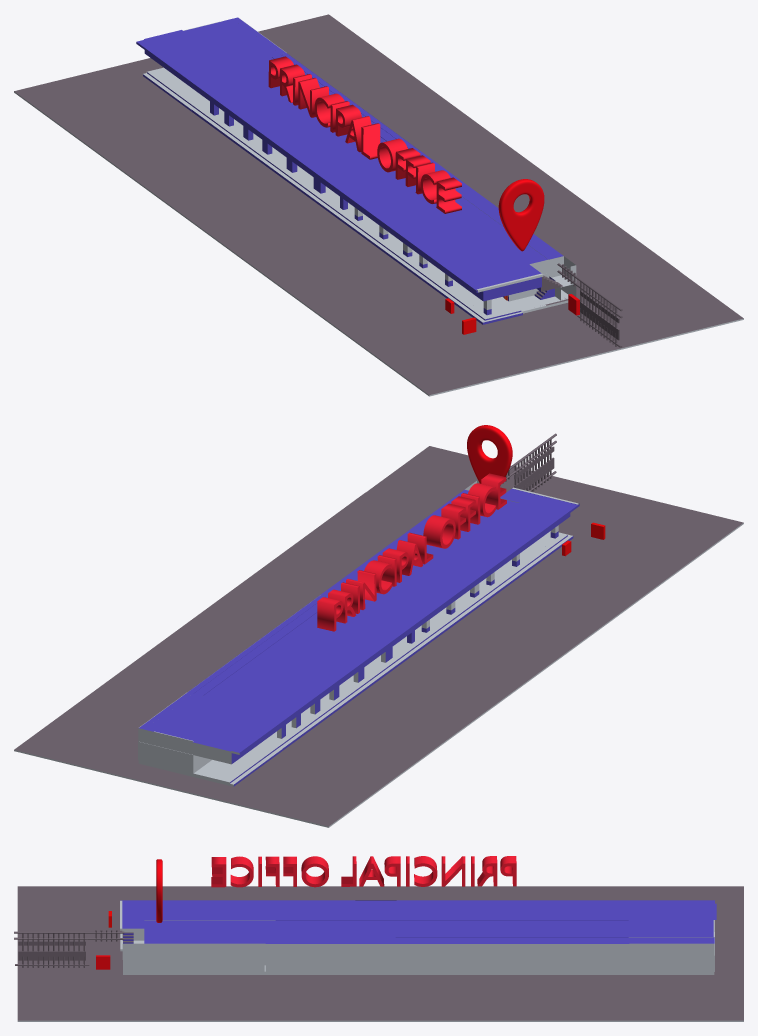
File: principaloffice.glb
3 renders of one model, top to bottom at view 1: azimuth 30°, elevation 25°; view 2: azimuth 150°, elevation 25°; view 3: azimuth 270°, elevation 25°, orthographic. The views are drawn at different scales.
Visible parts, largest first — view 1: Cylinder.1059, Text, dot, Cylinder.001; view 2: Cylinder.1059, Text, dot, Cylinder.001; view 3: Cylinder.1059, Text, Cylinder.001, dot.
Part boxes in pixels (x1,y1,x2,y2): Cylinder.1059: (14, 14, 743, 396); Text: (268, 56, 461, 213); dot: (498, 179, 544, 251); Cylinder.001: (557, 263, 622, 346); Cylinder.1059: (14, 446, 743, 827); Text: (317, 473, 506, 631); dot: (467, 425, 512, 483); Cylinder.001: (500, 433, 556, 491); Cylinder.1059: (17, 886, 743, 1021); Text: (211, 856, 516, 887); Cylinder.001: (14, 929, 124, 967); dot: (156, 859, 162, 922).
Size of what is drawn, in the model's own units: 187 by 65.01 by 429.
